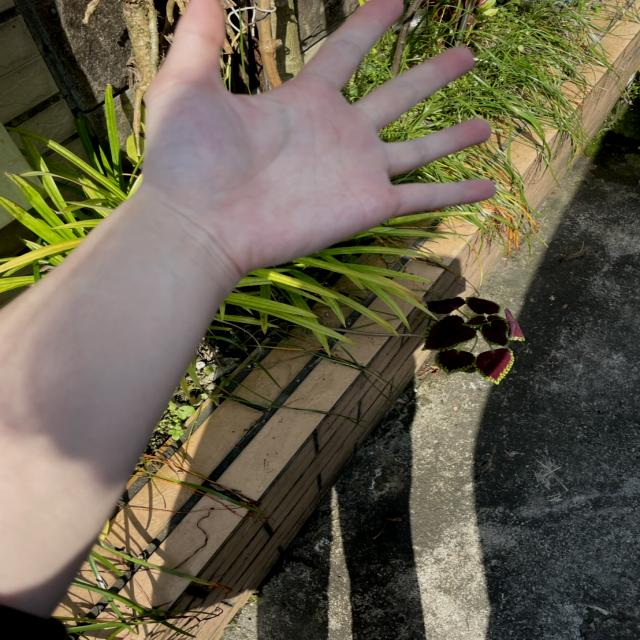no_glove: (129, 0, 514, 292)
